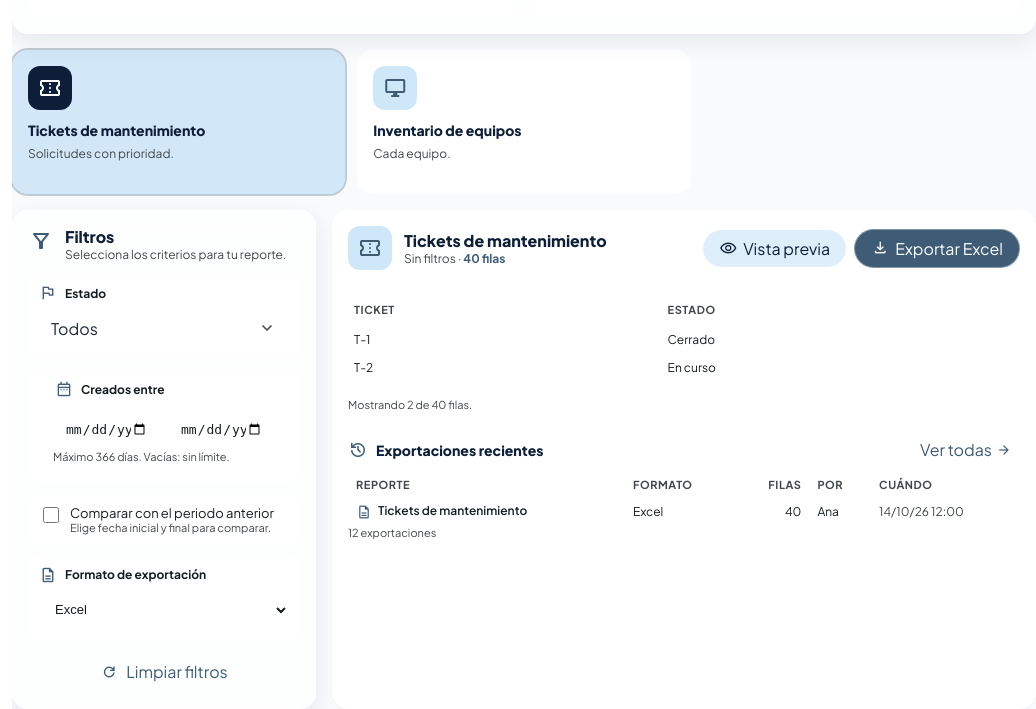
Test case: ReportsComponent › builder › only compares when both dates are set
The width and height of the screenshot is (1036, 709).
(page scrolled)
Click the checkbox: (51, 515) 43,507 -> 59,523
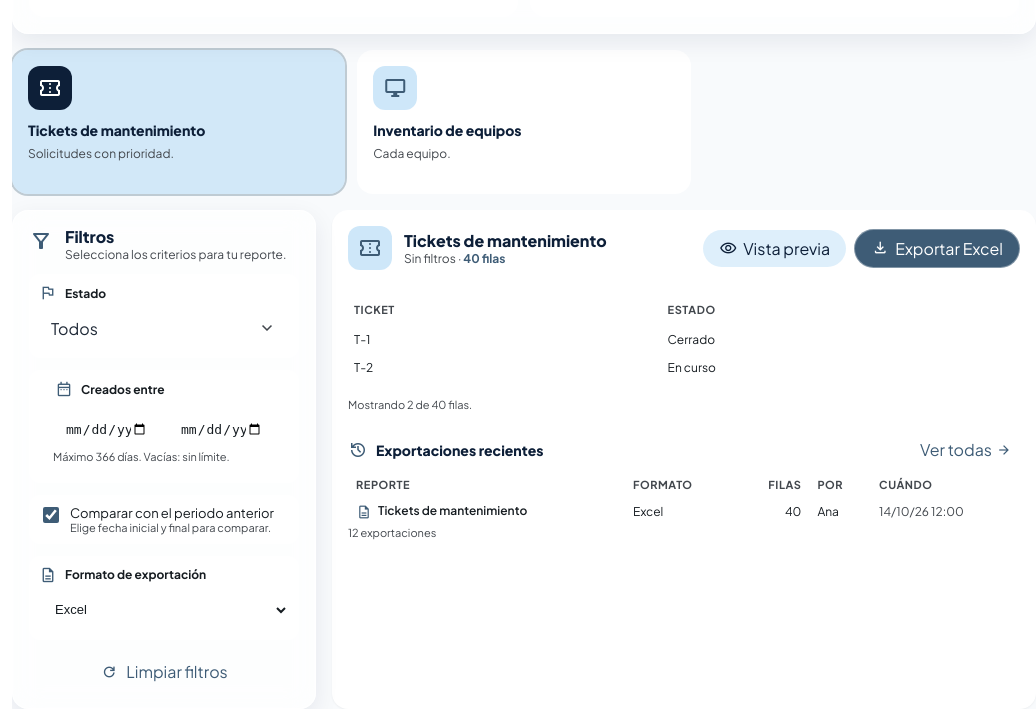
In the date field with id "rb-from": (106, 430) 53,410 -> 160,450, type "2026-09-01"
Wait 350 ms
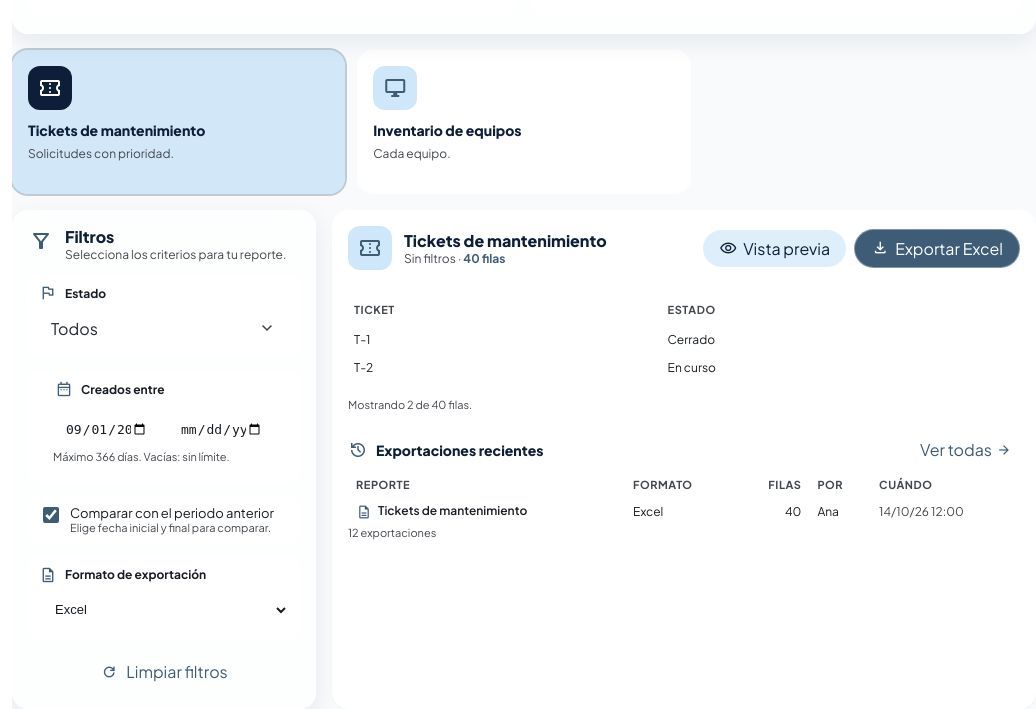
In the date field with id "rb-to": (222, 430) 168,410 -> 275,450, type "2026-09-30"
Wait 350 ms
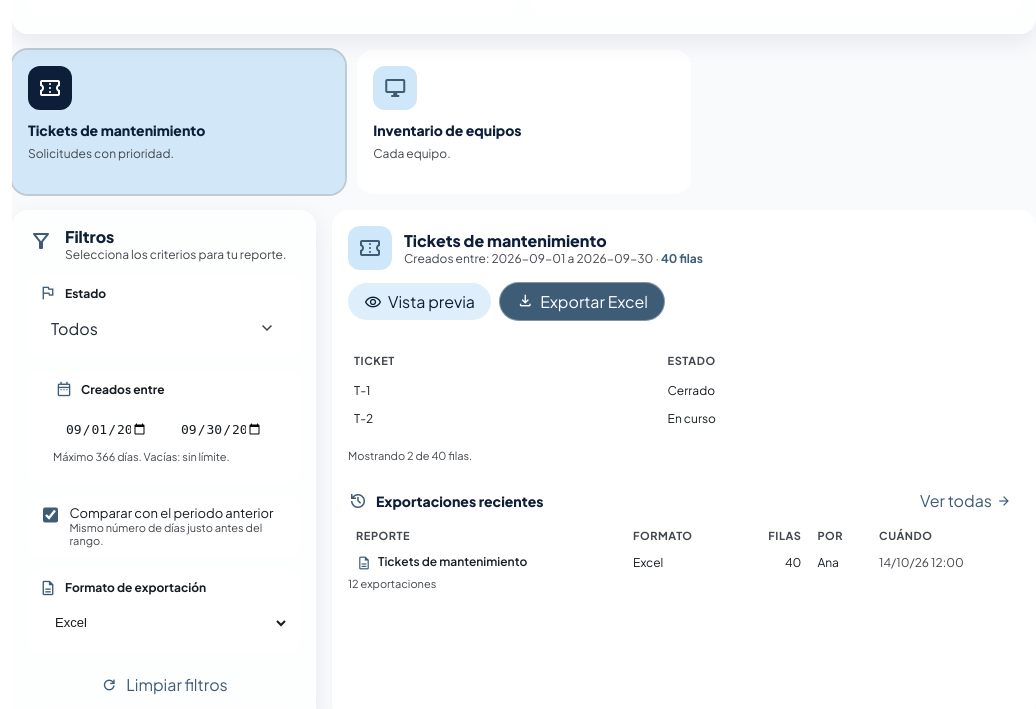
Expected: the text "Mismo número de días justo antes del rango." is shown, 69,521 -> 289,547
